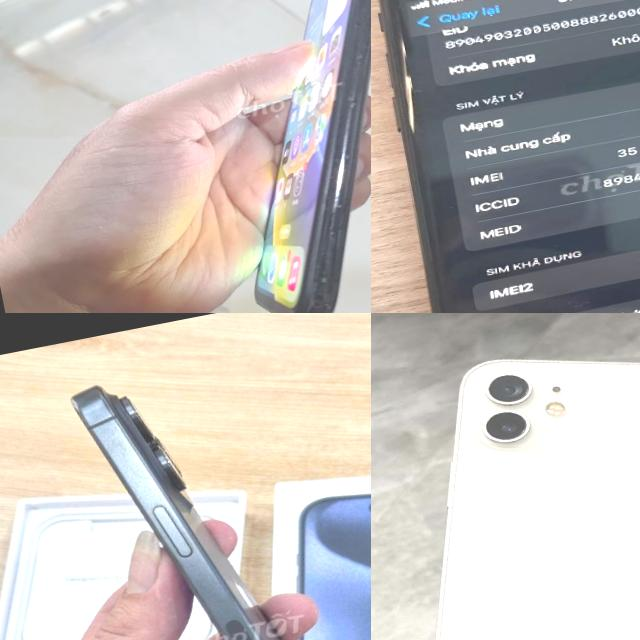gen_12_13: (371, 313, 640, 640)
gen_15: (56, 333, 371, 640)
gen_7_8: (371, 0, 640, 313)
gen_x_xs: (254, 0, 371, 313)
scratch: (301, 236, 358, 302), (312, 188, 359, 240), (337, 85, 371, 122), (343, 40, 371, 83)
screen_defect: (382, 28, 428, 137)
